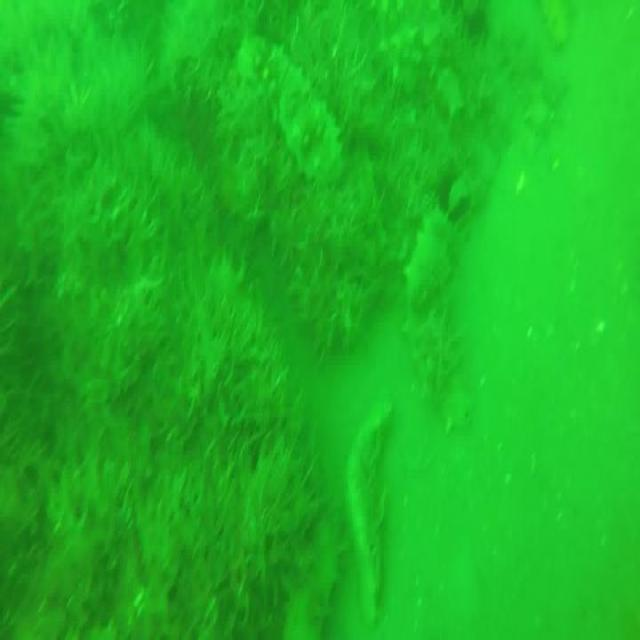holothurian: (261, 49, 343, 190), (361, 3, 455, 90), (403, 202, 457, 313)
